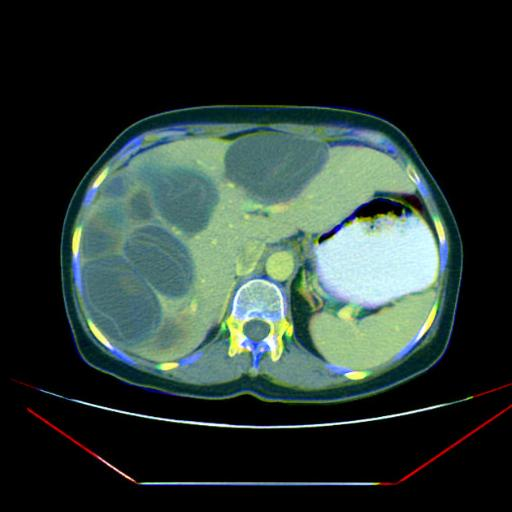Cyst: (224, 131, 328, 204), (81, 256, 160, 345), (138, 165, 218, 235), (125, 225, 192, 297), (80, 203, 124, 258), (130, 191, 153, 219), (99, 176, 124, 196)
